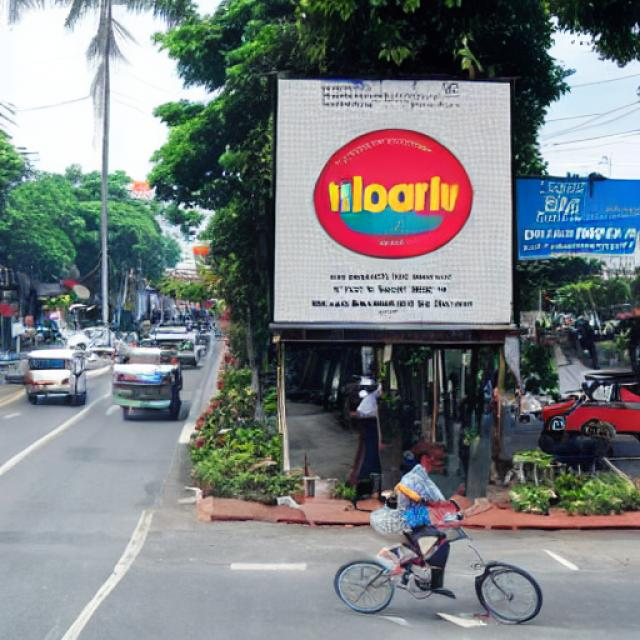Billboard: (272, 71, 517, 338)
